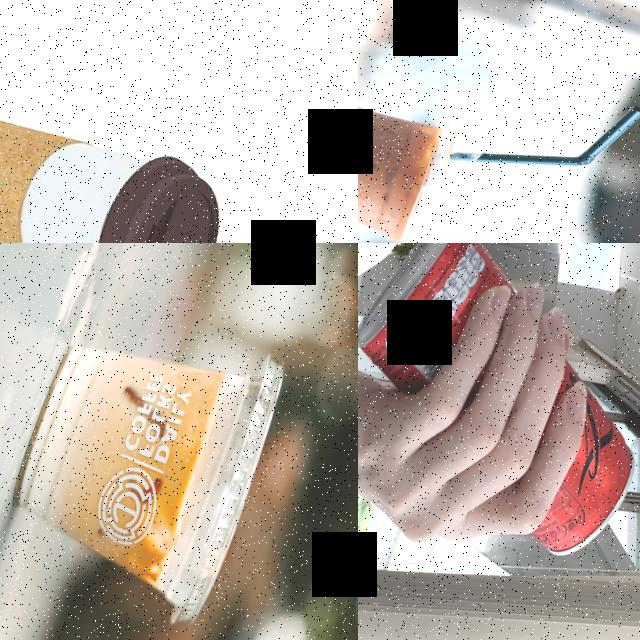can: (358, 243, 640, 571)
cup: (0, 282, 297, 635), (0, 49, 248, 243), (358, 44, 473, 243)
